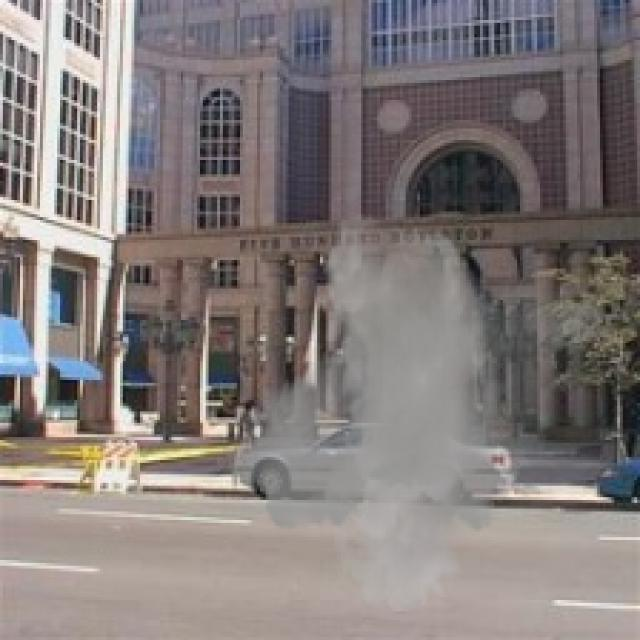Smoke: (214, 212, 617, 614)
